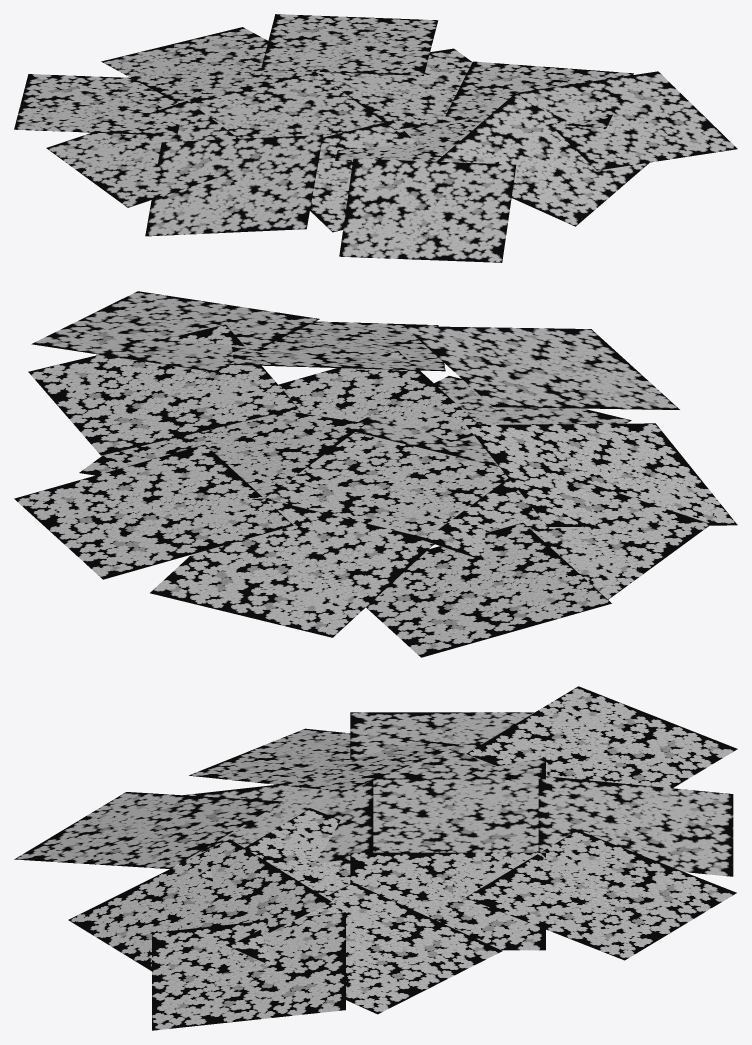
Rendered from CloverClump.fbx.
3 views of the same model, one above another, from view 1: azimuth 30°, elevation 25°; view 2: azimuth 150°, elevation 25°; view 3: azimuth 270°, elevation 25° (orthographic). The views are drawn at different scales.
Parts seen in each view (by area): view 1: Plane; view 2: Plane; view 3: Plane.
Part boxes in pixels (x1=…): Plane: x1=14, y1=14, x2=737, y2=262; Plane: x1=14, y1=291, x2=737, y2=657; Plane: x1=14, y1=686, x2=737, y2=1030.
Size of the model in its own units: 772 by 56.8 by 740.
